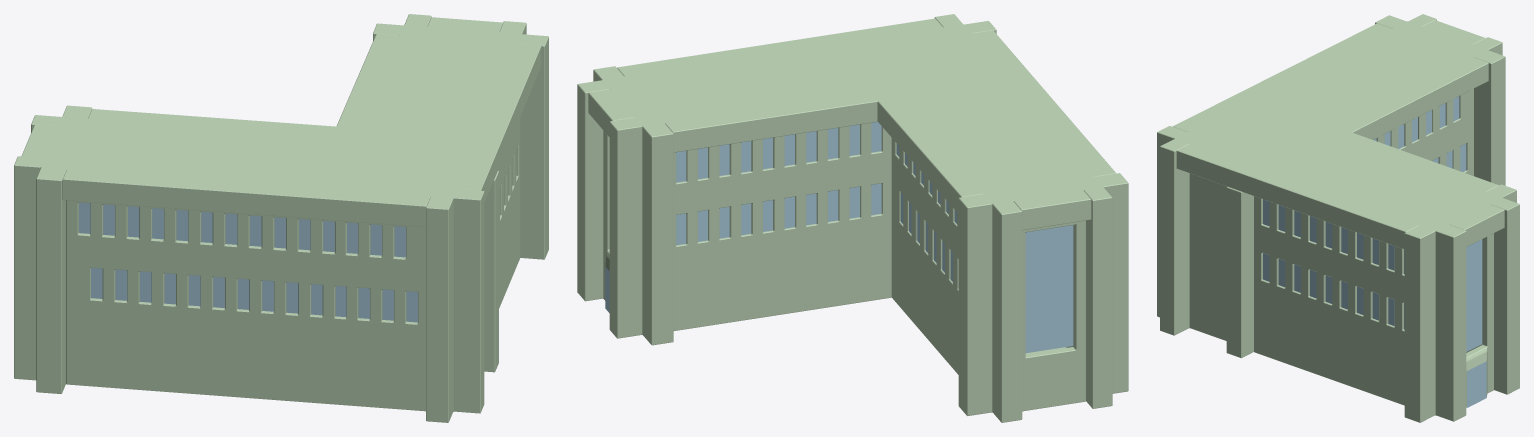
Rendered from Building_009.fbx.
3 views of the same model, side by side, from view 1: azimuth 30°, elevation 25°; view 2: azimuth 150°, elevation 25°; view 3: azimuth 270°, elevation 25° (orthographic). The views are drawn at different scales.
Visible parts, largest first — view 1: Building_009; view 2: Building_009; view 3: Building_009.
Part boxes in pixels (<box>): Building_009: <box>14,14,548,422</box>; Building_009: <box>577,14,1128,422</box>; Building_009: <box>1157,14,1519,422</box>.
Size of the model in its own units: 7407 by 2862 by 5056.
